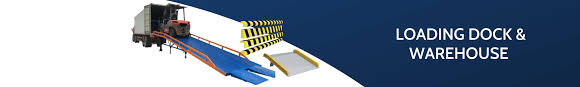Yard Ramp: (153, 31, 279, 87), (264, 48, 321, 77)
